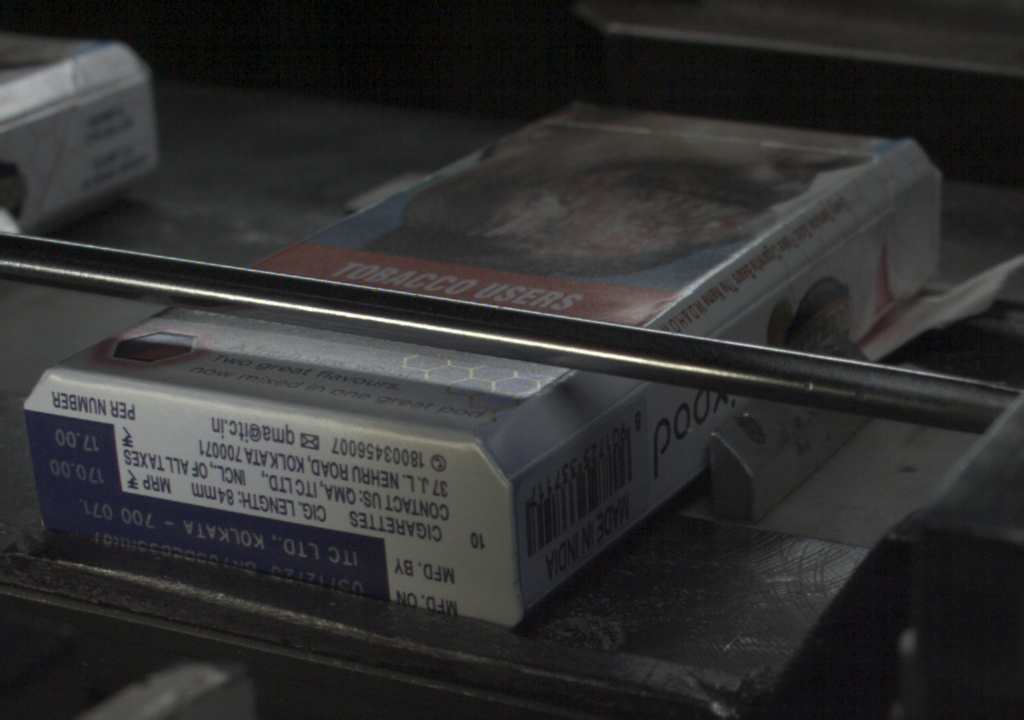g_bottom: (23, 366, 523, 630)
g_label: (43, 491, 408, 606)
g_lmiter: (796, 200, 883, 268), (710, 268, 796, 331), (512, 426, 577, 474), (581, 382, 639, 424)
ng_miter: (887, 165, 977, 292)
price: (30, 419, 123, 489)
